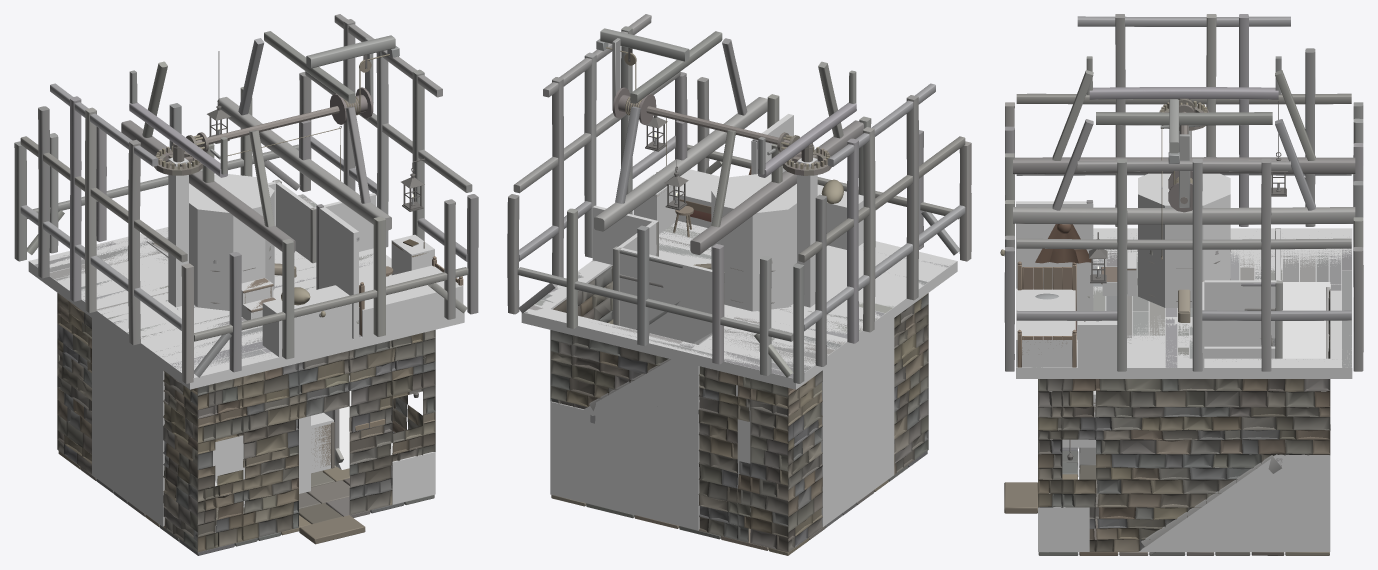
Rendered from mill_interior.glb.
The picture shows the model from 3 angles, left to right: view 1: azimuth 30°, elevation 25°; view 2: azimuth 150°, elevation 25°; view 3: azimuth 270°, elevation 25°; orthographic projection. The views are drawn at different scales.
Parts seen in each view (by area): view 1: Inner walls, Upper frame / tav_oak, Trusses / tav_oak, Gears, Stone floor 0, Stone case block, Meal floor, Grain sacks, Bed, Nook partition, Floor timbers / tav_floor, Upright shaft guard (+16 smaller); view 2: Upper frame / tav_oak, Inner walls, Stair ramp west, Trusses / tav_oak, Gears, Stone floor 0, Stone case block, Stair rail west, Stair landing, Floor timbers / tav_floor, Stone floor 4, Upright shaft guard (+14 smaller); view 3: Inner walls, Upper frame / tav_oak, Trusses / tav_oak, Stone case block, Floor timbers / tav_floor, Stair ramp north, Stair landing, Stone floor 2, Stone floor 0, Bed, Meal floor, Stone floor 3 (+14 smaller).
Part boxes in pixels (left/top/right/bottom): Inner walls: left=57, top=239, right=435, bottom=552; Upper frame / tav_oak: left=14, top=14, right=478, bottom=383; Trusses / tav_oak: left=121, top=31, right=399, bottom=251; Gears: left=92, top=318, right=310, bottom=526; Stone floor 0: left=28, top=236, right=299, bottom=389; Stone case block: left=189, top=174, right=274, bottom=310; Meal floor: left=58, top=451, right=434, bottom=555; Grain sacks: left=262, top=285, right=351, bottom=357; Bed: left=359, top=265, right=463, bottom=336; Nook partition: left=316, top=206, right=358, bottom=338; Floor timbers / tav_floor: left=34, top=194, right=372, bottom=370; Upright shaft guard: left=168, top=157, right=188, bottom=307; Upper frame / tav_oak: left=507, top=14, right=971, bottom=383; Inner walls: left=550, top=265, right=928, bottom=552; Stair ramp west: left=583, top=326, right=724, bottom=530; Trusses / tav_oak: left=595, top=28, right=863, bottom=254; Gears: left=731, top=318, right=894, bottom=526; Stone floor 0: left=686, top=241, right=957, bottom=389; Stone case block: left=711, top=174, right=796, bottom=311; Stair rail west: left=616, top=247, right=712, bottom=343; Stair landing: left=550, top=401, right=595, bottom=505; Floor timbers / tav_floor: left=524, top=221, right=950, bottom=377; Stone floor 4: left=540, top=309, right=696, bottom=362; Upright shaft guard: left=797, top=158, right=817, bottom=307; Inner walls: left=1038, top=289, right=1330, bottom=551; Upper frame / tav_oak: left=1004, top=16, right=1363, bottom=371; Trusses / tav_oak: left=1013, top=58, right=1355, bottom=224; Stone case block: left=1138, top=173, right=1230, bottom=307; Floor timbers / tav_floor: left=1032, top=235, right=1351, bottom=367; Stair ramp north: left=1139, top=454, right=1277, bottom=551; Stair landing: left=1275, top=455, right=1330, bottom=551; Stone floor 2: left=1016, top=335, right=1199, bottom=378; Stone floor 0: left=1093, top=228, right=1352, bottom=283; Bed: left=1016, top=288, right=1075, bottom=367; Meal floor: left=1004, top=447, right=1329, bottom=555; Stone floor 3: left=1199, top=358, right=1352, bottom=378.
Bounding box in the file's own units: 5.8 × 7.74 × 5.96.
